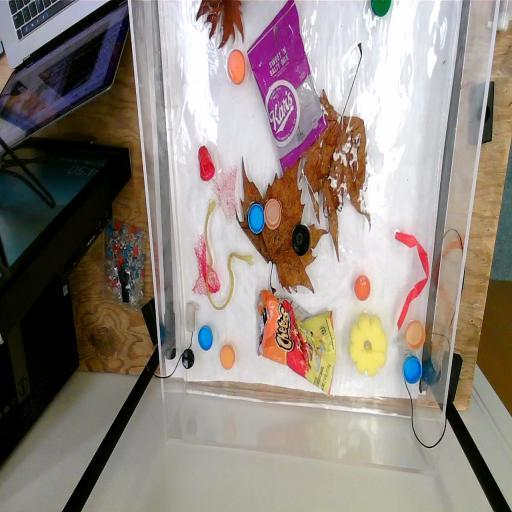Bottle Cap: (226, 48, 247, 88), (400, 351, 422, 388), (290, 223, 310, 257), (264, 196, 282, 232), (247, 202, 266, 236), (406, 319, 427, 349), (352, 272, 372, 302), (196, 324, 213, 354), (220, 341, 236, 371), (367, 0, 393, 18), (179, 346, 196, 370)
Cone Cap: (195, 140, 217, 185)
Leaf: (236, 151, 326, 287), (310, 90, 374, 262), (192, 0, 246, 50)
Netting: (186, 235, 223, 298), (215, 166, 239, 224)
Plastic Bag: (250, 0, 326, 164), (254, 288, 338, 402)
Plastic Strand: (198, 196, 254, 310), (390, 223, 430, 331)
Sponge: (349, 310, 389, 378)
